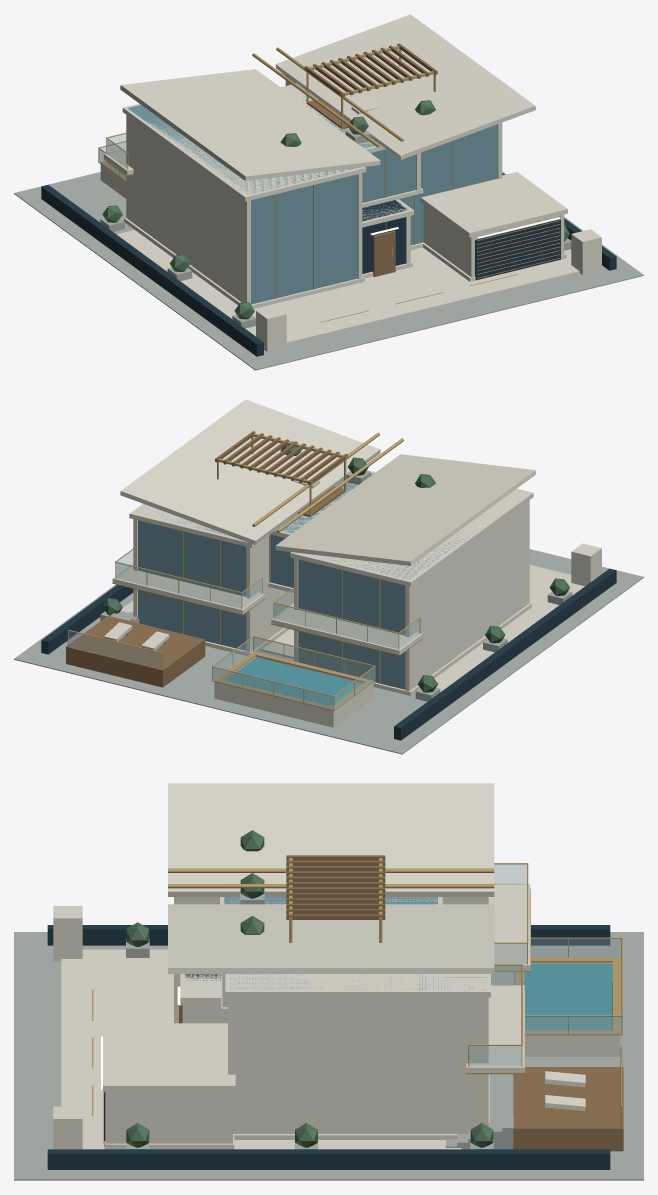
The model's file is folded-river-house.glb.
3 renders of one model, top to bottom at view 1: azimuth 30°, elevation 25°; view 2: azimuth 150°, elevation 25°; view 3: azimuth 270°, elevation 25°, orthographic. The views are drawn at different scales.
Visible parts, largest first — view 1: RV-04-ivory, RV-04-glazing, RV-04-stone, RV-04-dark, RV-04-gold, RV-04-wood, RV-04-leaf, RV-04-glass; view 2: RV-04-ivory, RV-04-glazing, RV-04-stone, RV-04-glass, RV-04-wood, RV-04-gold, RV-04-dark, RV-04-water, RV-04-leaf; view 3: RV-04-ivory, RV-04-stone, RV-04-dark, RV-04-wood, RV-04-gold, RV-04-glass, RV-04-water, RV-04-leaf, RV-04-glazing.
Part boxes in pixels (<box>): RV-04-ivory: <box>100,14,601,351</box>; RV-04-glazing: <box>127,96,497,304</box>; RV-04-stone: <box>14,130,643,370</box>; RV-04-dark: <box>41,173,616,356</box>; RV-04-gold: <box>98,45,560,322</box>; RV-04-wood: <box>304,43,437,276</box>; RV-04-leaf: <box>102,100,569,319</box>; RV-04-glass: <box>99,134,127,182</box>; RV-04-ivory: <box>104,399,601,727</box>; RV-04-glazing: <box>138,473,482,689</box>; RV-04-stone: <box>14,471,643,754</box>; RV-04-glass: <box>68,550,420,710</box>; RV-04-wood: <box>66,431,347,687</box>; RV-04-gold: <box>67,432,423,711</box>; RV-04-dark: <box>41,568,616,740</box>; RV-04-water: <box>225,657,362,706</box>; RV-04-leaf: <box>102,441,569,692</box>; RV-04-ivory: <box>53,783,620,1149</box>; RV-04-stone: <box>14,890,643,1180</box>; RV-04-dark: <box>47,925,612,1169</box>; RV-04-wood: <box>179,855,623,1151</box>; RV-04-gold: <box>92,858,622,1143</box>; RV-04-glass: <box>469,864,621,1066</box>; RV-04-water: <box>524,964,612,1030</box>; RV-04-leaf: <box>126,830,493,1147</box>; RV-04-glazing: <box>224,897,486,989</box>.
Size of the model in its own units: 26 by 9.8 by 28.
